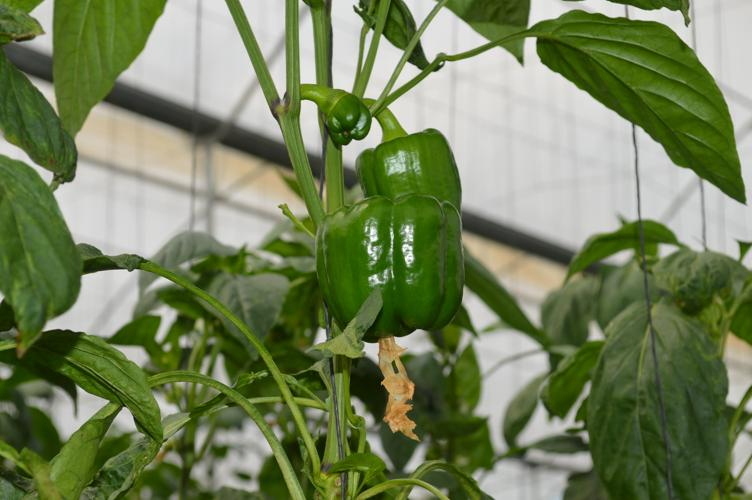BellPepper: (311, 197, 468, 337), (354, 129, 460, 207)
